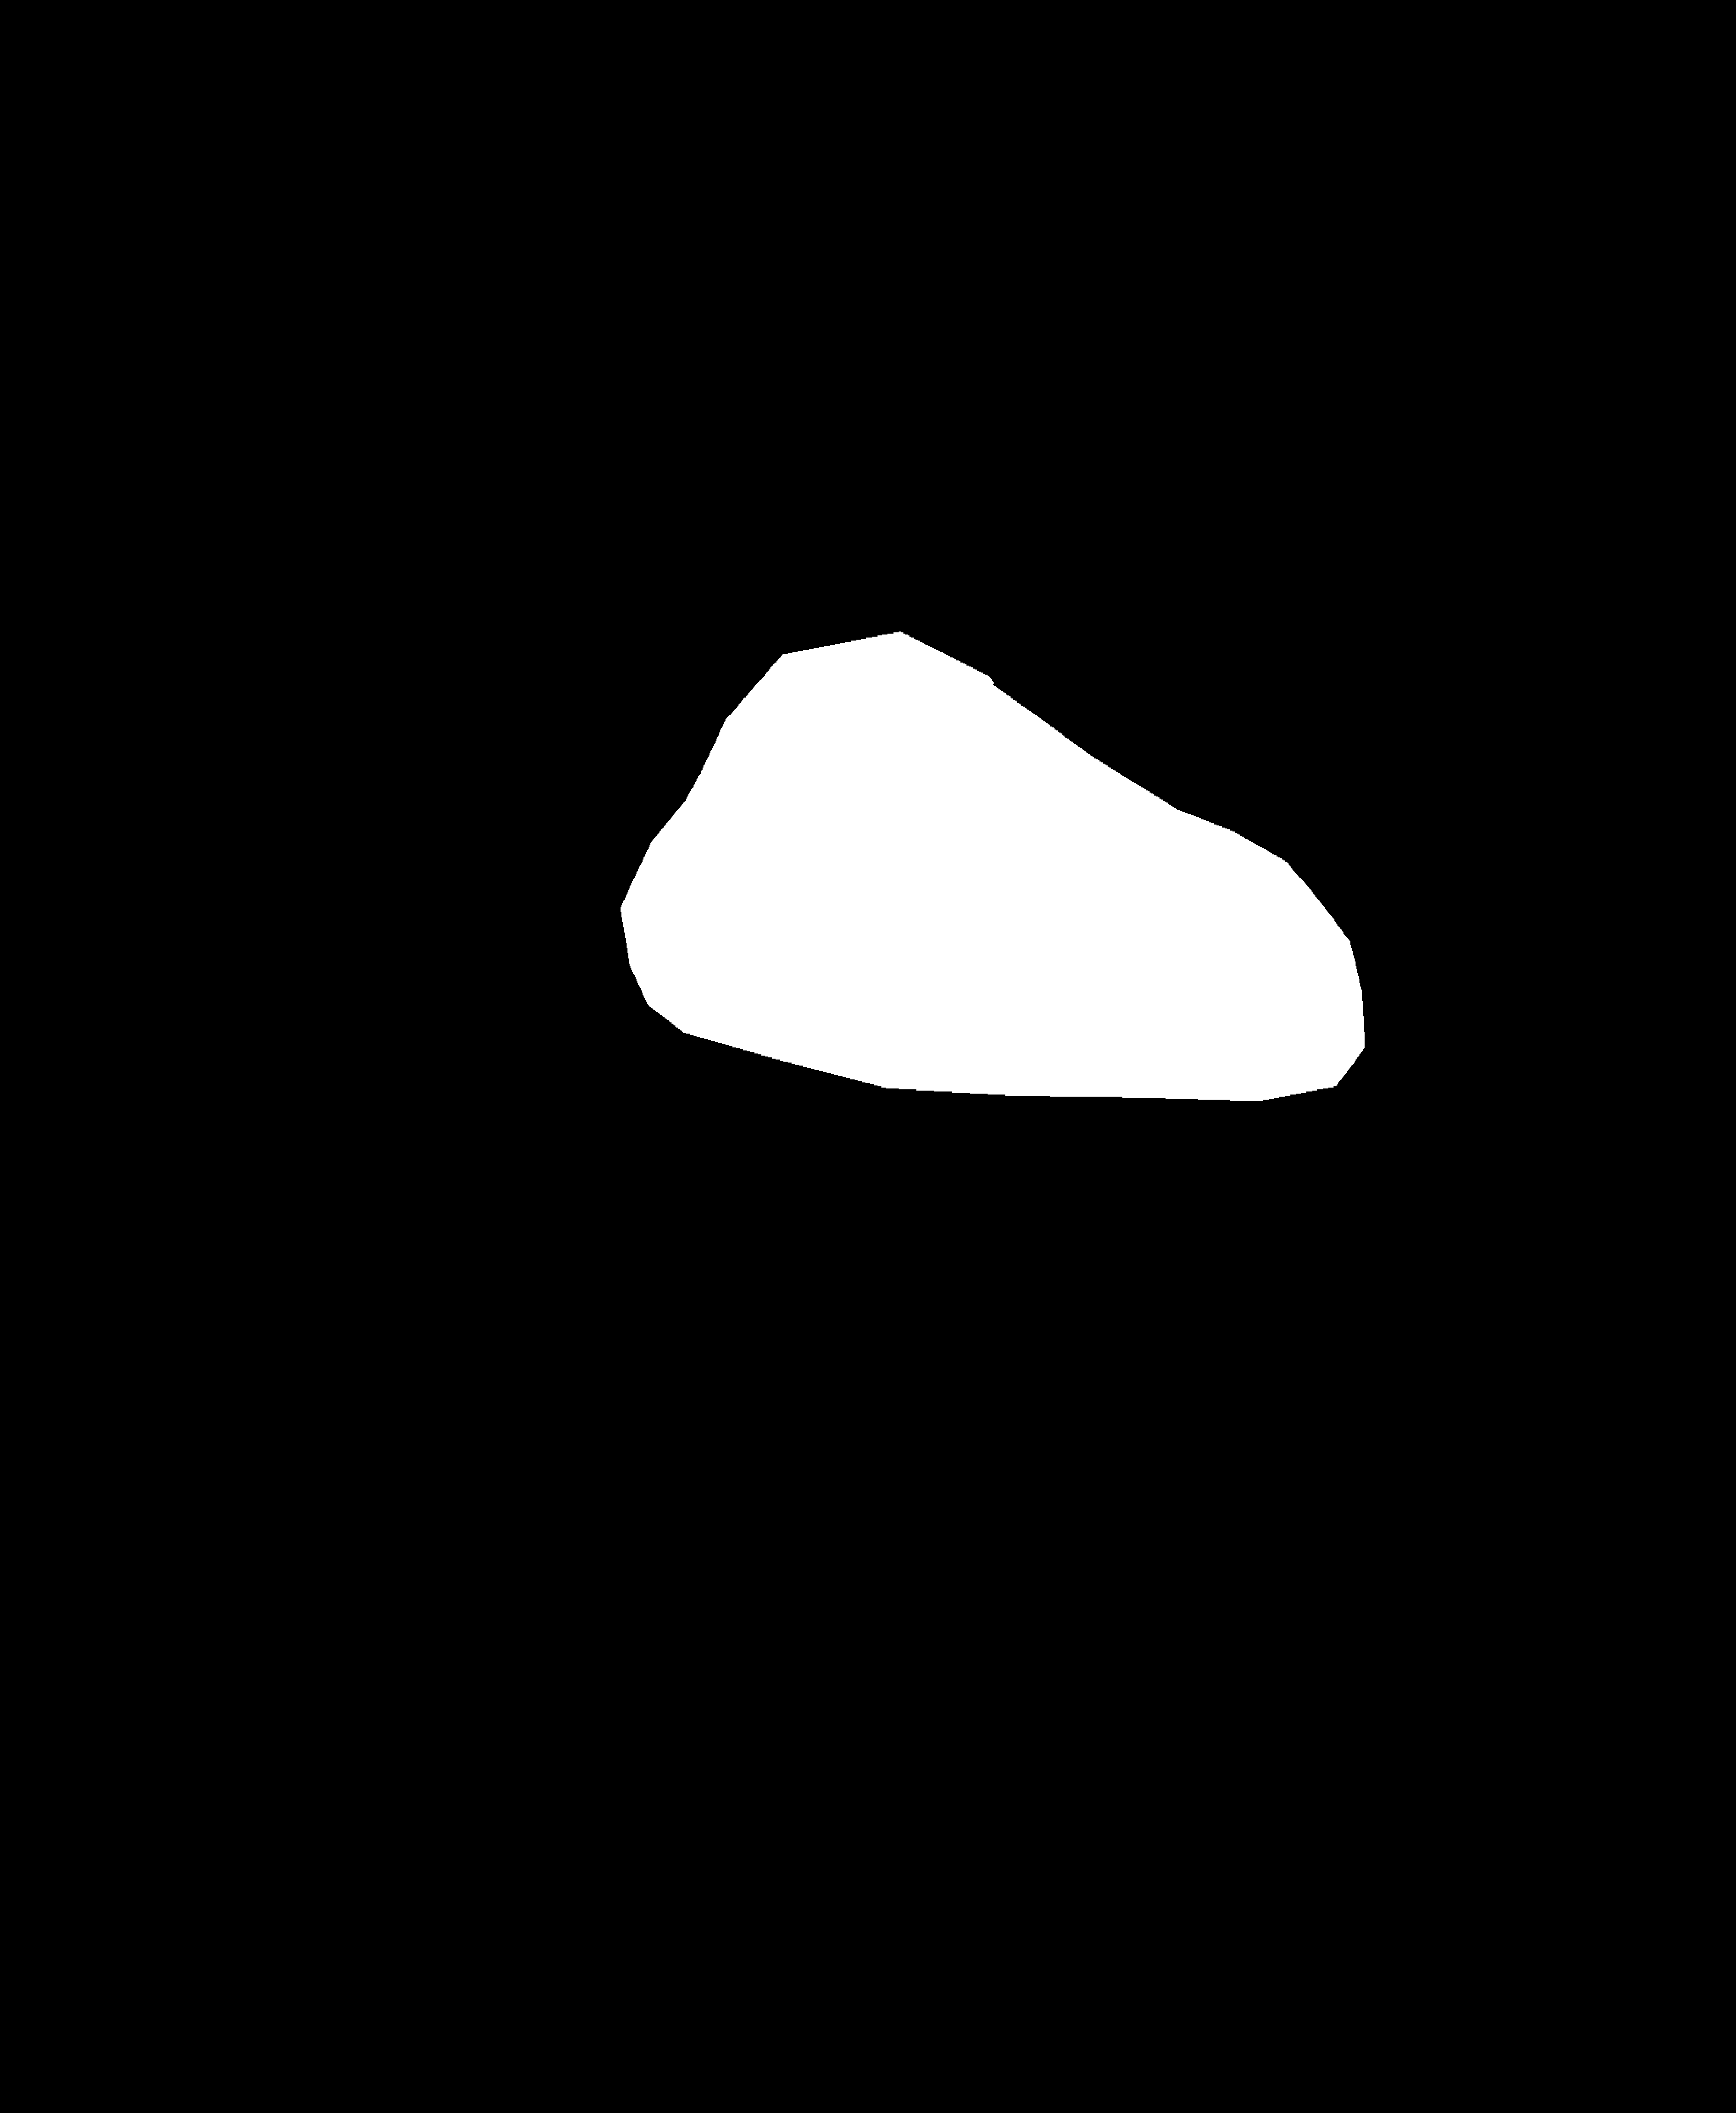heart: (623, 765, 1364, 1067)
left_lung: (174, 181, 739, 1241)
right_lung: (862, 174, 1494, 1186)
